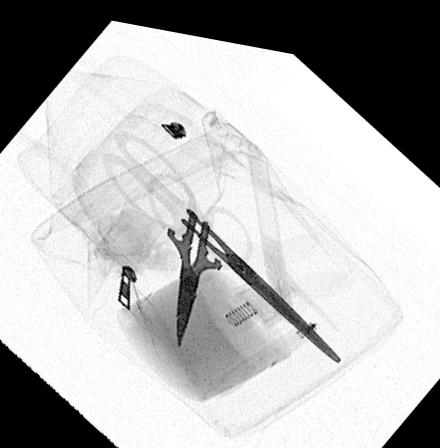Scissors: (94, 120, 347, 359), (139, 155, 255, 347)
